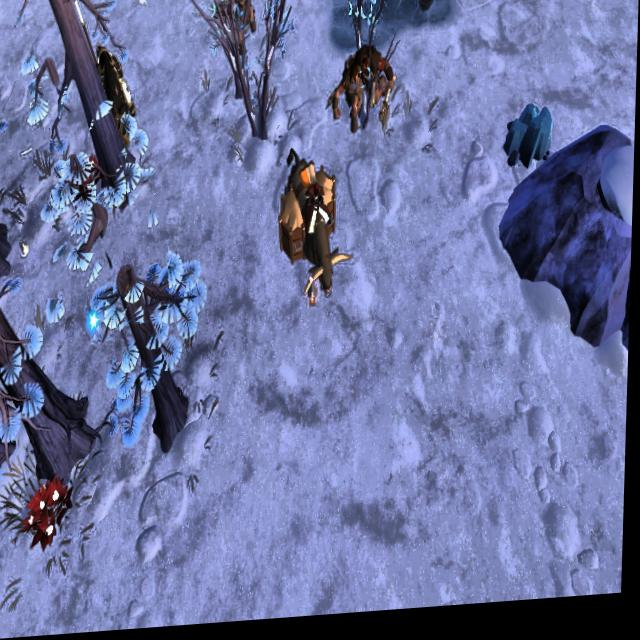enemy_factionKeeper: (329, 40, 395, 144)
fiber_t5: (24, 474, 76, 551)
rock_t4: (502, 106, 556, 181)
